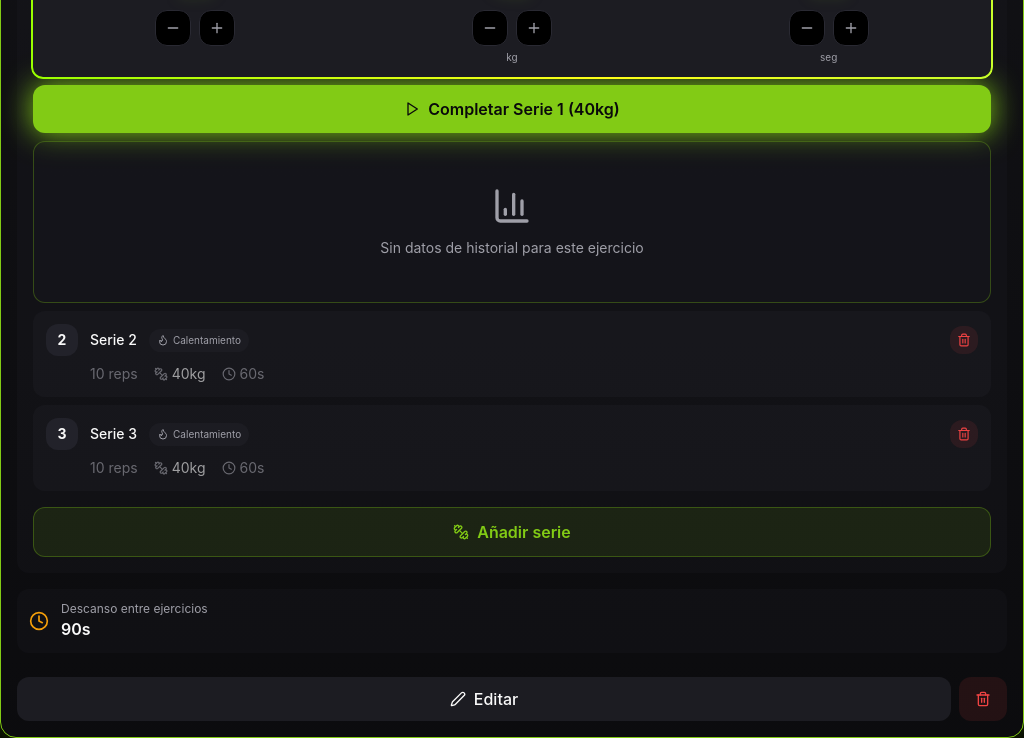
Scenario: ExerciseCard activo: añadir/eliminar series › añadir serie durante el ejercicio notifica la sesión, no la plantilla
The width and height of the screenshot is (1024, 738).
(page scrolled)
Click the button "Añadir serie" at (512, 532), box left=33, top=507, right=991, bottom=557
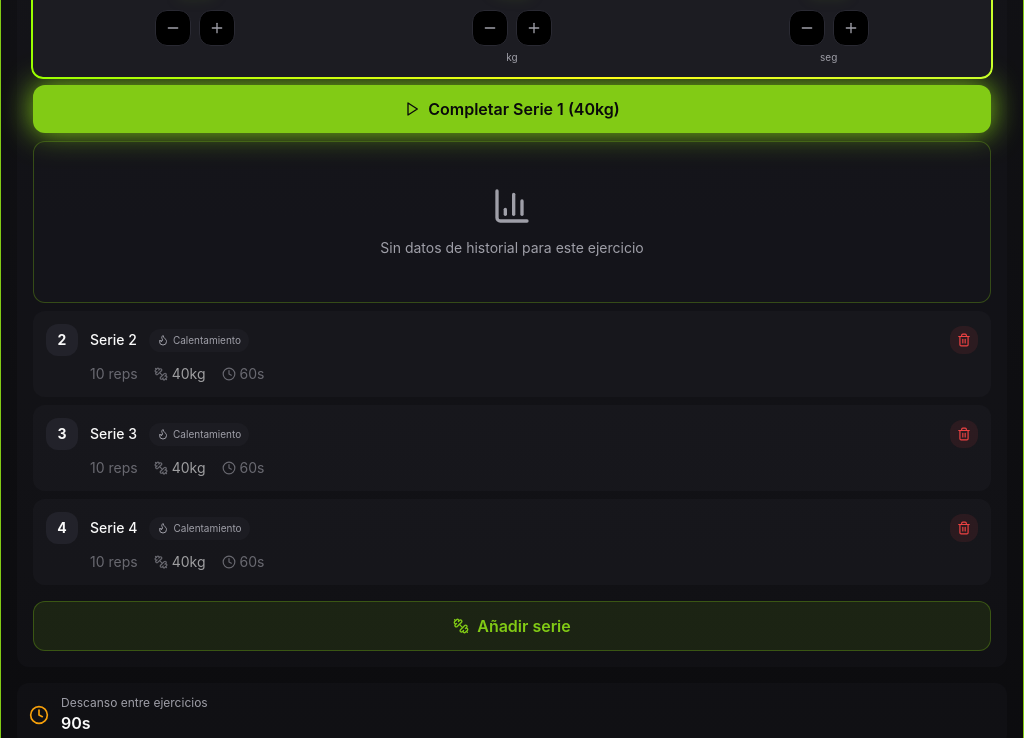
Expected: the number of fields labelled "Eliminar serie" is 4
